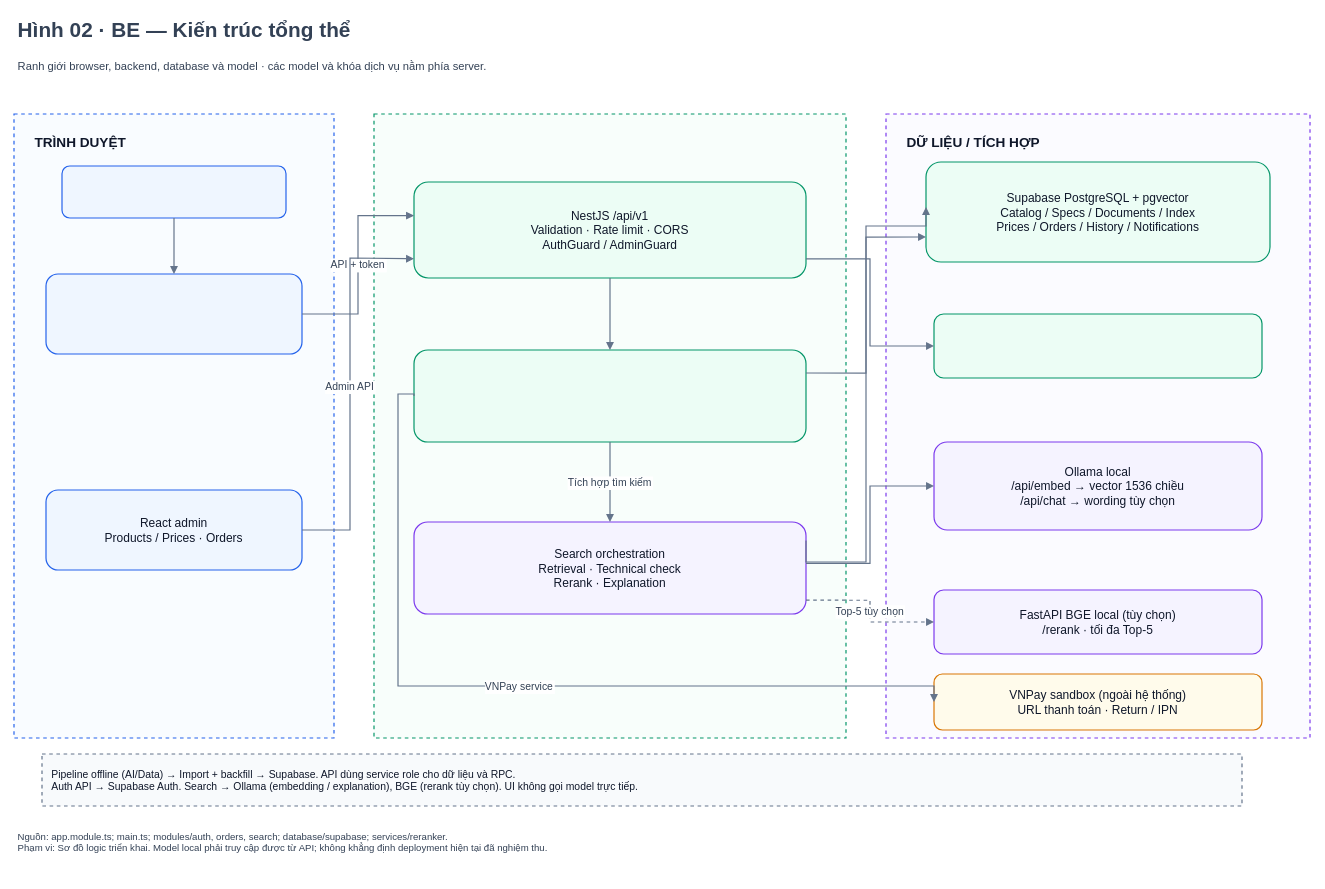
This 1325x889 diagram has some shape labels left out. Each missing label, with the box of its shape:
BACKEND / MÁY CHẠY API: (373, 113, 846, 738)
Khách hàng: (61, 165, 286, 218)
Modules ứng dụng Auth · Products · Admin Orders / VNPay · Notifications: (413, 349, 806, 442)
React client Search · Account · Commerce: (45, 273, 302, 354)
Supabase Auth Sign-in · Refresh · getUser: (933, 313, 1262, 378)
